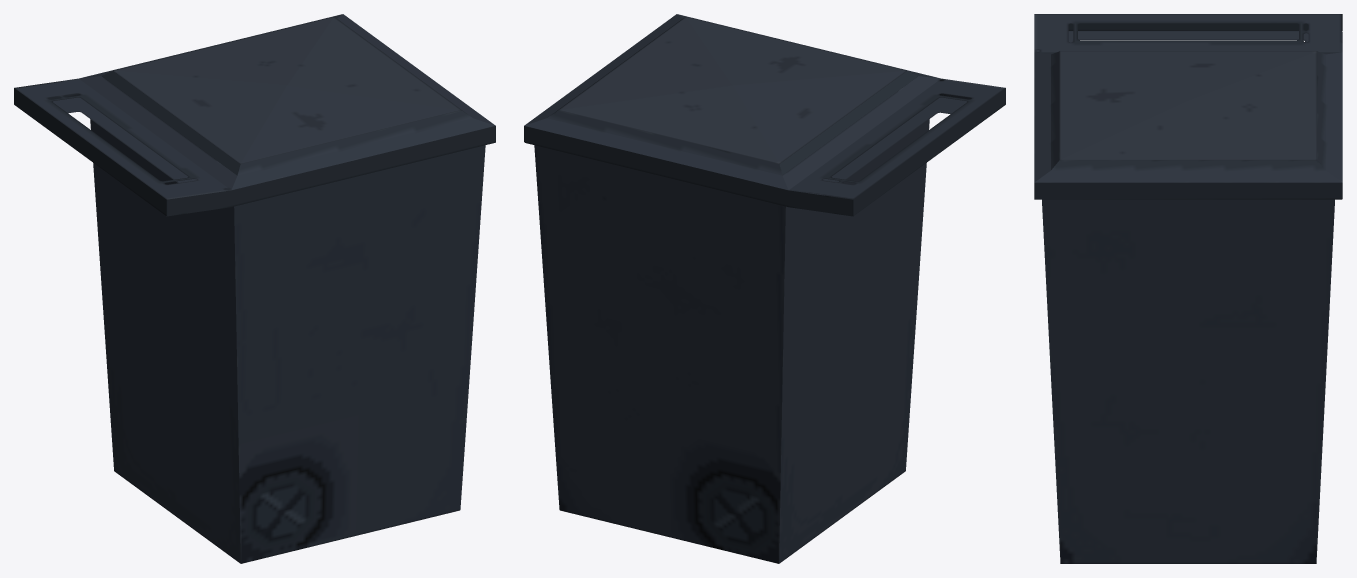
File: Garbage_Bin.fbx
The picture shows the model from 3 angles, left to right: view 1: azimuth 30°, elevation 25°; view 2: azimuth 150°, elevation 25°; view 3: azimuth 270°, elevation 25°; orthographic projection.
Visible parts, largest first — view 1: trash; view 2: trash; view 3: trash.
Part boxes in pixels (x1,y1,x2,y2): trash: (14, 14, 495, 563); trash: (524, 14, 1005, 563); trash: (1034, 14, 1342, 563).
Bounding box in the file's own units: 31.86 × 37.48 × 25.61.
Materials: 1 (1 with a texture image).
